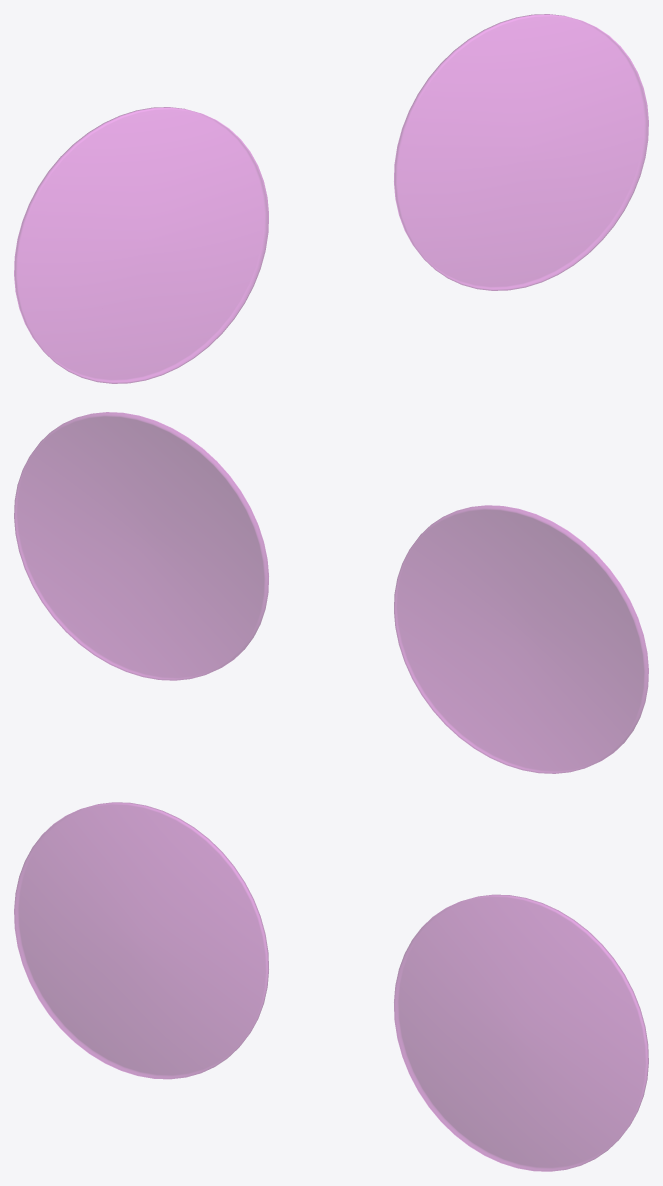
The model's file is glassesLenses.glb.
3 renders of one model, top to bottom at view 1: azimuth 30°, elevation 25°; view 2: azimuth 150°, elevation 25°; view 3: azimuth 330°, elevation 25°, orthographic.
Parts seen in each view (by area): view 1: glasses lenses baked; view 2: glasses lenses baked; view 3: glasses lenses baked.
Boxes of the visible parts, left/top/right/bottom form: glasses lenses baked: left=14, top=14, right=648, bottom=383; glasses lenses baked: left=14, top=412, right=648, bottom=773; glasses lenses baked: left=14, top=802, right=648, bottom=1171.
Size of the model in its own units: 0.1237 by 0.0495 by 0.00438.
